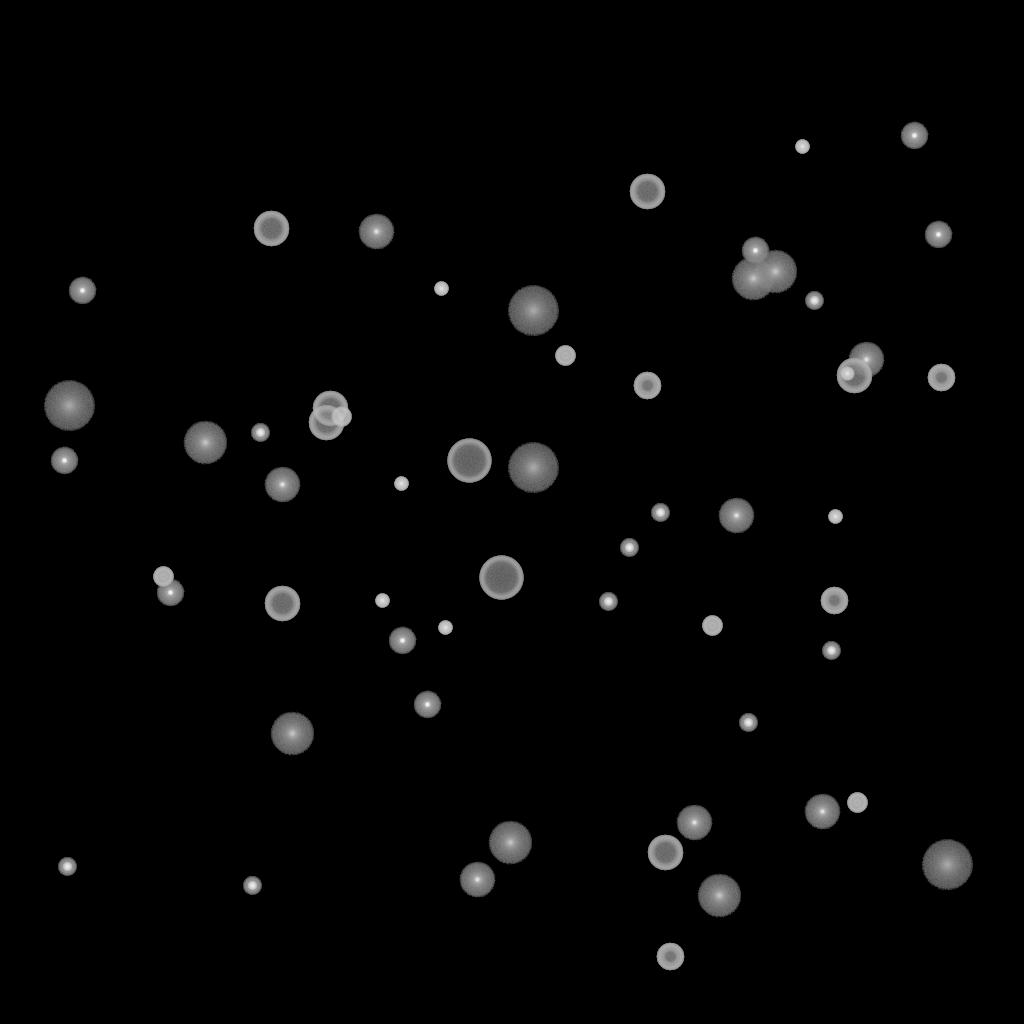depth:-10: (413, 691, 441, 719), (50, 447, 78, 475), (741, 237, 769, 265), (68, 277, 96, 305), (924, 221, 952, 249), (156, 579, 184, 607), (388, 627, 416, 655), (900, 122, 928, 150)
depth:-20: (805, 292, 823, 310), (651, 504, 669, 522), (251, 424, 269, 442), (739, 714, 757, 732), (599, 593, 617, 611), (822, 642, 840, 660), (620, 539, 638, 557), (243, 877, 261, 895), (58, 858, 76, 876)
depth:-30: (795, 140, 809, 154), (394, 477, 408, 491), (828, 510, 842, 524), (438, 621, 452, 635), (375, 594, 389, 608), (434, 282, 448, 296), (840, 367, 854, 381)
depth:-40: (555, 346, 575, 366), (153, 567, 173, 587), (847, 793, 867, 813), (331, 407, 351, 427), (702, 616, 722, 636)
depth:-50: (927, 364, 955, 392), (633, 372, 661, 400), (820, 587, 848, 615), (656, 943, 684, 971)
depth:-60: (836, 358, 872, 394), (253, 211, 289, 247), (629, 174, 665, 210), (308, 405, 344, 441), (264, 586, 300, 622), (312, 391, 348, 427), (647, 835, 683, 871)
depth:-70: (479, 556, 523, 600), (447, 439, 491, 483)
depth:0: (459, 862, 495, 898), (848, 342, 884, 378), (804, 794, 840, 830), (718, 498, 754, 534), (358, 214, 394, 250), (264, 467, 300, 503), (676, 805, 712, 841)
depth:10: (270, 712, 314, 756), (183, 421, 227, 465), (697, 874, 741, 918), (731, 257, 775, 301), (753, 250, 797, 294), (488, 821, 532, 865)
depth:20: (921, 840, 973, 890), (43, 381, 95, 431), (507, 286, 559, 336), (507, 443, 559, 493)
